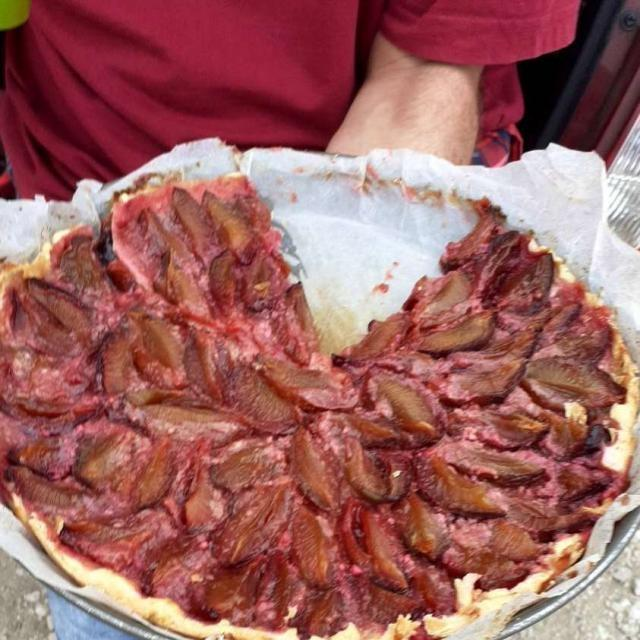pie: (15, 176, 620, 635)
